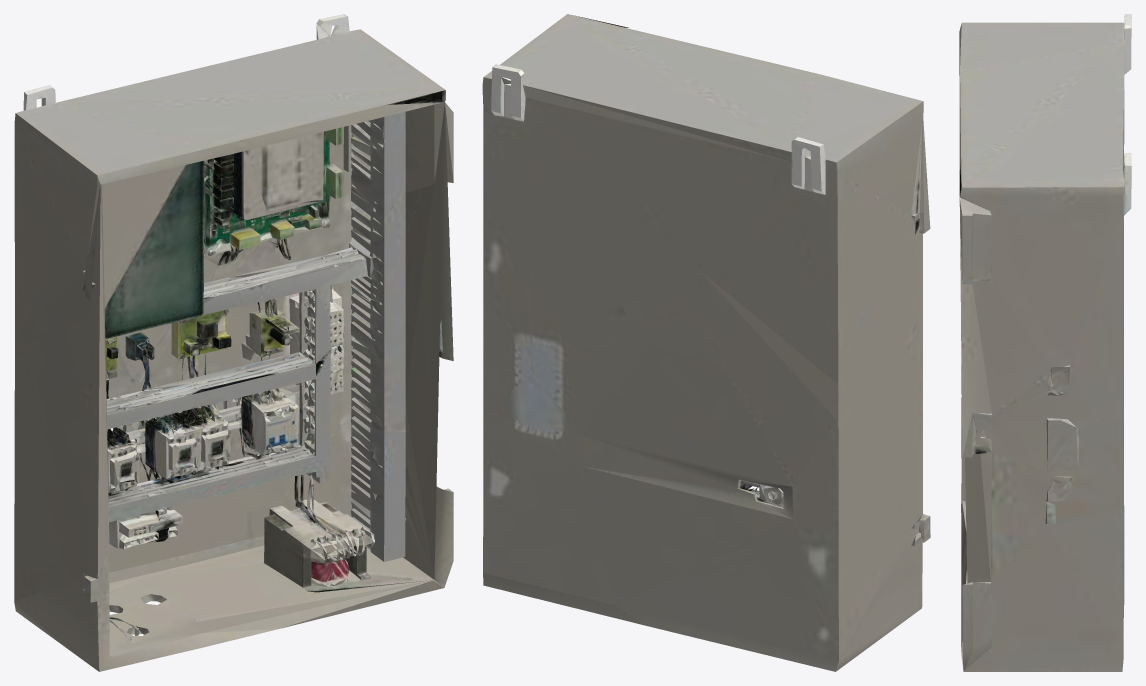
The model's file is tablero-electromecanico.glb.
3 views of the same model, side by side, from view 1: azimuth 30°, elevation 25°; view 2: azimuth 150°, elevation 25°; view 3: azimuth 270°, elevation 25° (orthographic). The views are drawn at different scales.
Parts seen in each view (by area): view 1: Mesh_0; view 2: Mesh_0; view 3: Mesh_0.
Boxes of the visible parts, left/top/right/bottom form: Mesh_0: left=14, top=14, right=453, bottom=671; Mesh_0: left=482, top=14, right=930, bottom=671; Mesh_0: left=959, top=14, right=1131, bottom=671.
Size of the model in its own units: 1.4 by 1.9 by 0.5929.
1 material, 1 textured.
